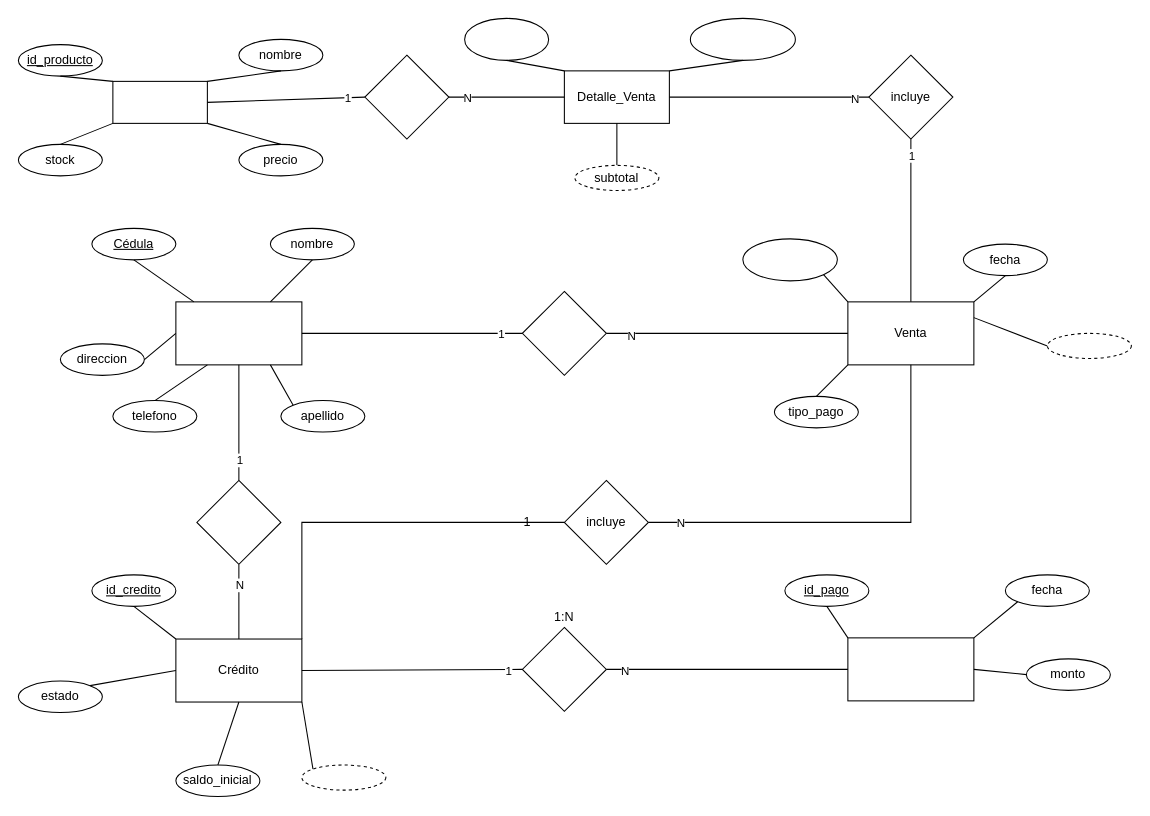
Some shapes in this 1150 by 816 pixel diagram are drawn without their labels. The centre of each missing label's shape, as x and y in pixels:
"aparece_en" goes at (406,96).
"cantidad" goes at (506,38).
"Cliente" goes at (238,333).
"hace" goes at (563,332).
"numero de venta" goes at (789,259).
"Pago" goes at (910,669).
"precio_unitario" goes at (742,38).
"Producto" goes at (159,101).
"recibe" goes at (563,668).
"saldo_actual" goes at (343,777).
"tiene" goes at (238,521).
"total" goes at (1088,345).
